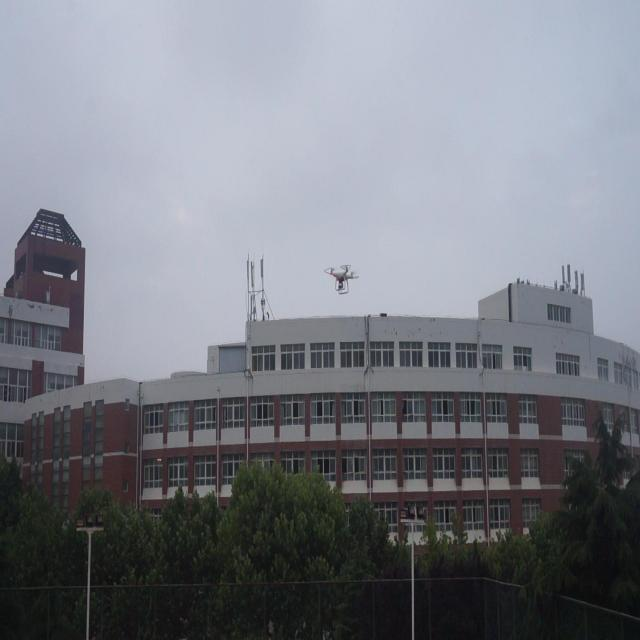UAV: (324, 265, 359, 295)
